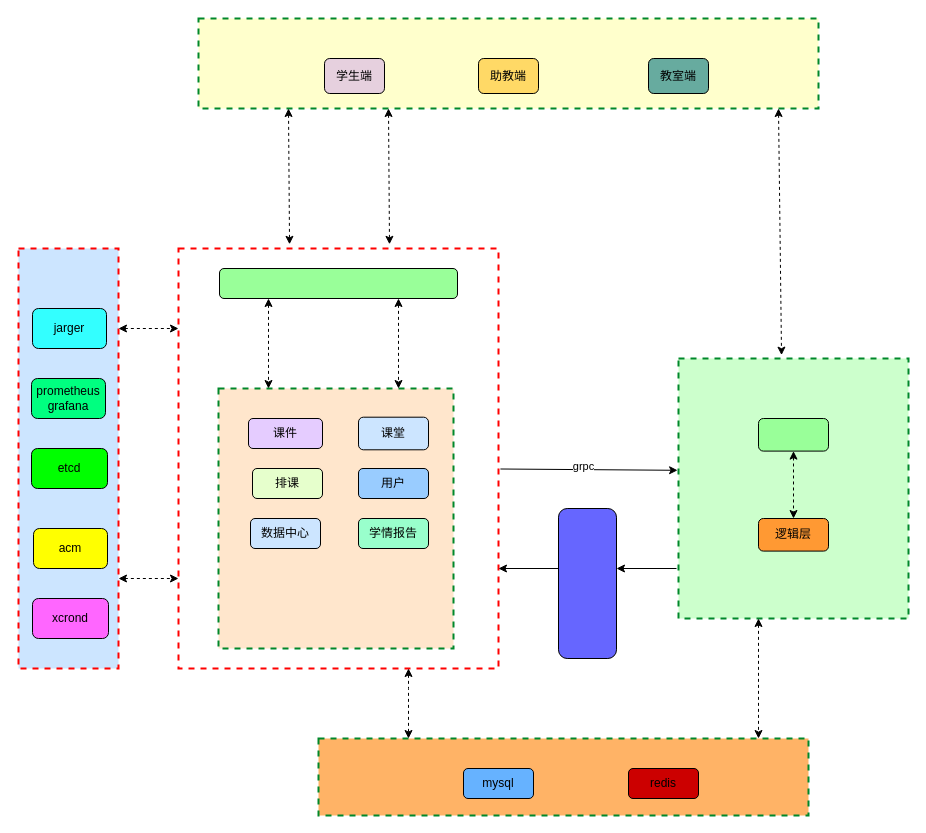
The diagram is 926 pixels wide and 833 high, and some of its shapes have lost their labels. Each missing label, with the box of its shape:
api gateway: (218, 268, 458, 298)
MQ: (558, 508, 616, 658)
业务服务: (217, 387, 454, 649)
中间件: (17, 247, 119, 669)
存储: (317, 737, 809, 816)
客户端: (197, 17, 819, 109)
接入层: (758, 418, 828, 451)
长连网关: (677, 357, 909, 619)
